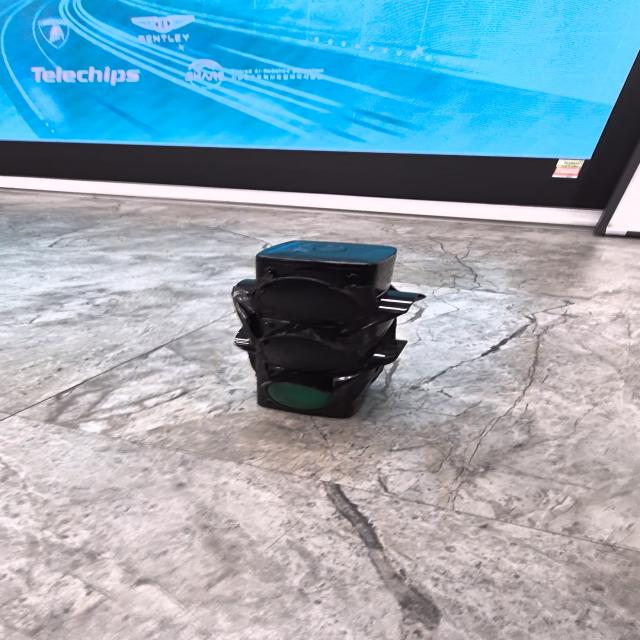green_light: (267, 382, 331, 409)
